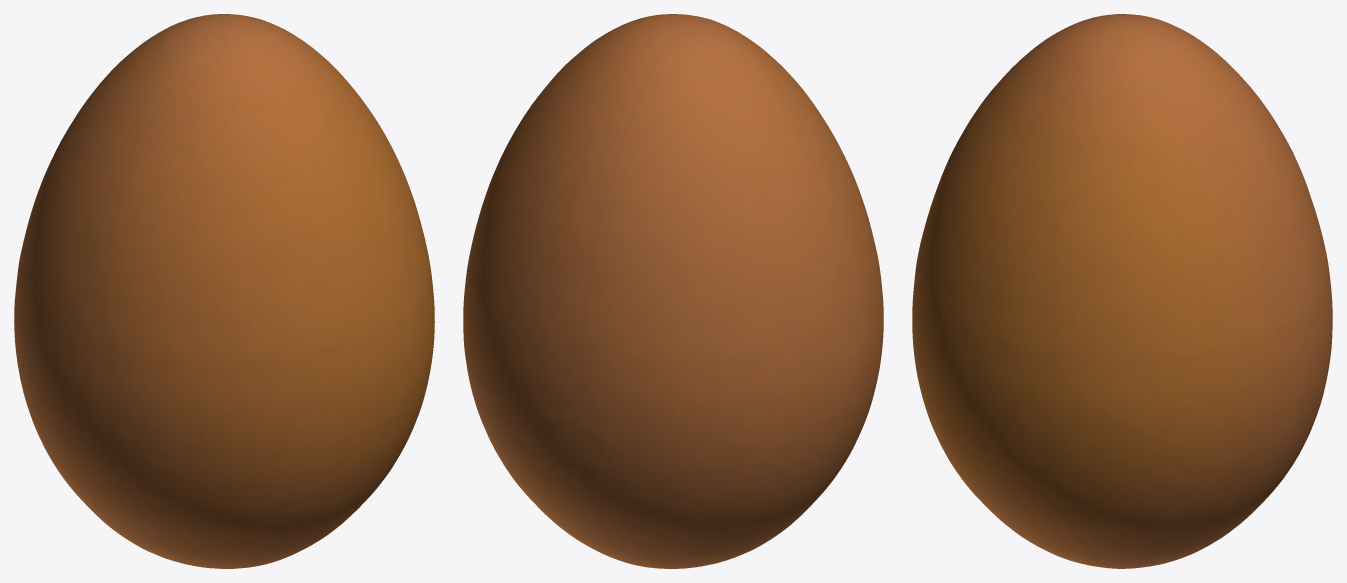
File: egg.glb
3 renders of one model, left to right at view 1: azimuth 30°, elevation 25°; view 2: azimuth 150°, elevation 25°; view 3: azimuth 270°, elevation 25°, orthographic.
Visible parts, largest first — view 1: tripo_node_a97c59ba-2cfe-4dbe-988c-4f6840bc8e65; view 2: tripo_node_a97c59ba-2cfe-4dbe-988c-4f6840bc8e65; view 3: tripo_node_a97c59ba-2cfe-4dbe-988c-4f6840bc8e65.
Part boxes in pixels (x1,y1,x2,y2): tripo_node_a97c59ba-2cfe-4dbe-988c-4f6840bc8e65: (14,14,434,568); tripo_node_a97c59ba-2cfe-4dbe-988c-4f6840bc8e65: (463,14,883,568); tripo_node_a97c59ba-2cfe-4dbe-988c-4f6840bc8e65: (912,14,1332,568).
Bounding box in the file's own units: 0.7257 × 1 × 0.723.
1 material, 1 textured.
